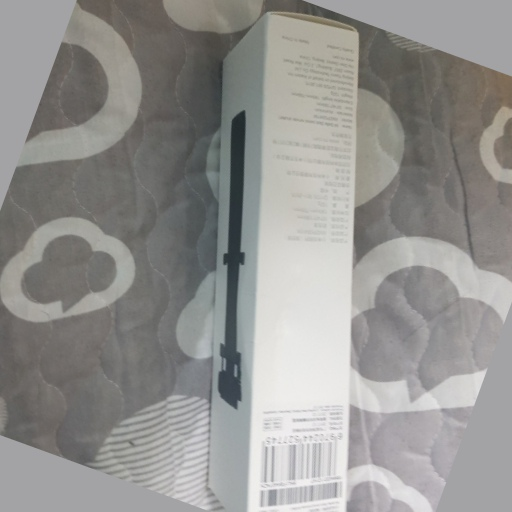Paper_0: (205, 9, 365, 512)
